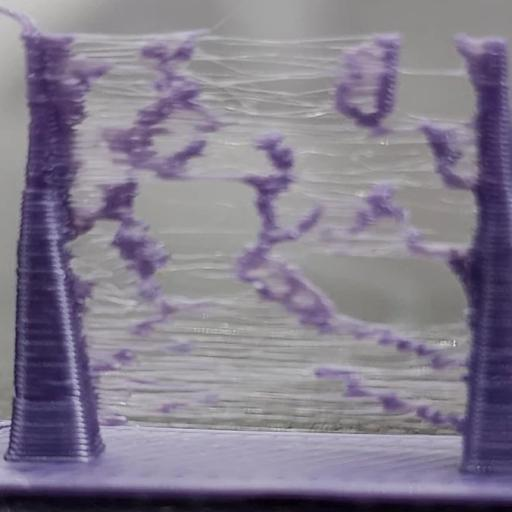stringing: (98, 336, 330, 431), (325, 313, 479, 433), (68, 150, 160, 343), (68, 38, 226, 140), (158, 259, 334, 348), (236, 45, 404, 133), (212, 136, 376, 203), (375, 114, 490, 187), (347, 204, 467, 259), (260, 202, 351, 253)
